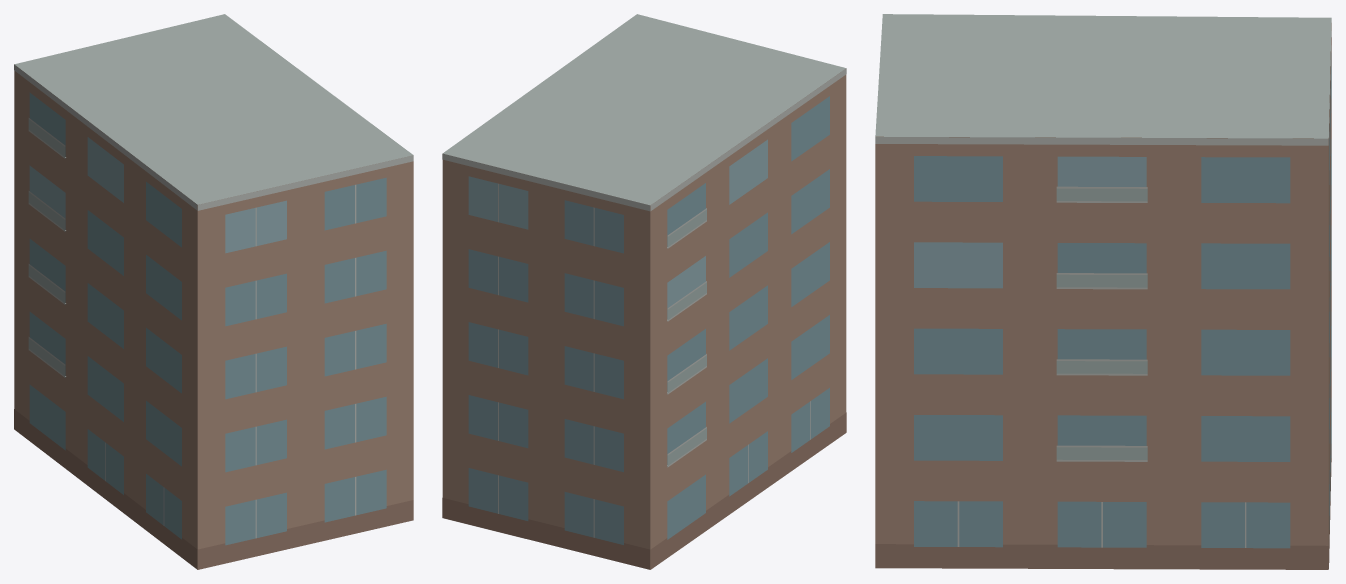
Rendered from survey-upis-32661571.glb.
3 views of the same model, side by side, from view 1: azimuth 30°, elevation 25°; view 2: azimuth 150°, elevation 25°; view 3: azimuth 270°, elevation 25° (orthographic). The views are drawn at different scales.
Parts seen in each view (by area): view 1: survey-upis-32661571.tmp; view 2: survey-upis-32661571.tmp; view 3: survey-upis-32661571.tmp.
Boxes of the visible parts, x1,y1,x2,y2 form: survey-upis-32661571.tmp: (14, 14, 413, 569); survey-upis-32661571.tmp: (442, 14, 846, 569); survey-upis-32661571.tmp: (875, 14, 1331, 569).
Bounding box in the file's own units: 9.11 × 14.7 × 14.1.
